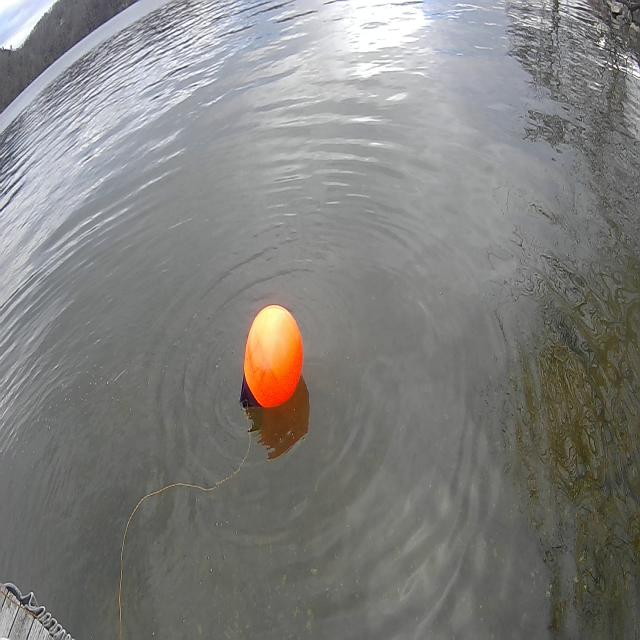Buoy: (235, 294, 308, 428)
